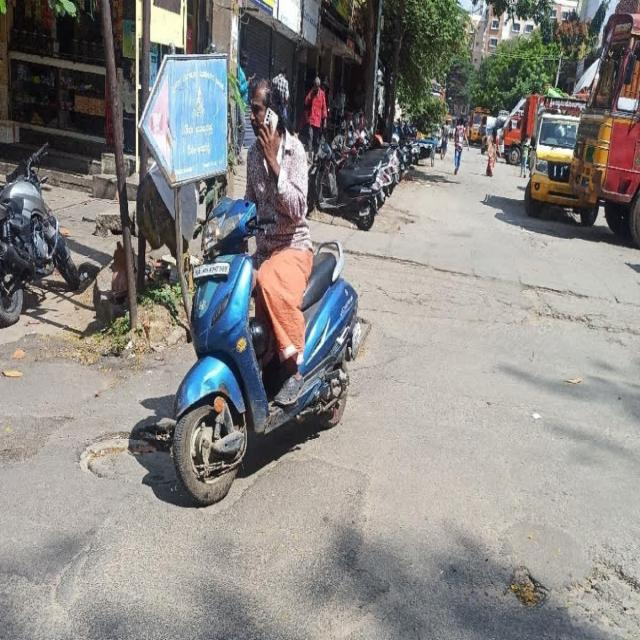car: (525, 100, 591, 223)
motorcycle: (172, 80, 361, 504), (0, 142, 80, 326), (308, 140, 380, 230)
